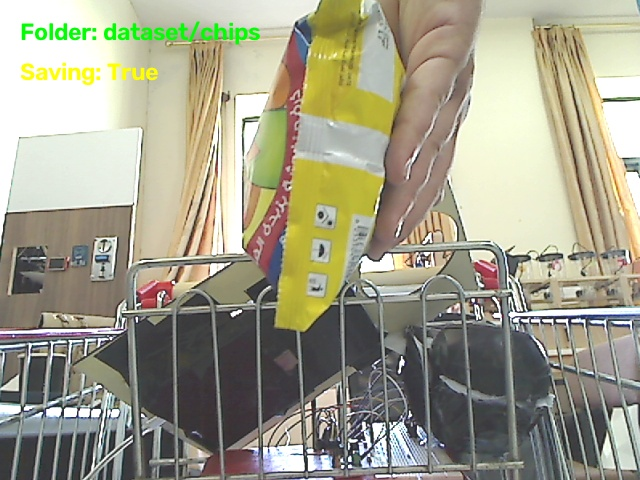chips: (243, 0, 403, 330)
